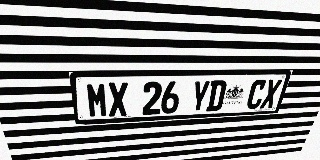2: (142, 81, 162, 115)
6: (161, 81, 181, 114)
C: (245, 79, 268, 109)
D: (206, 80, 228, 111)
M: (85, 82, 108, 118)
X: (107, 82, 128, 117), (259, 79, 283, 109)
Y: (189, 80, 211, 112)
